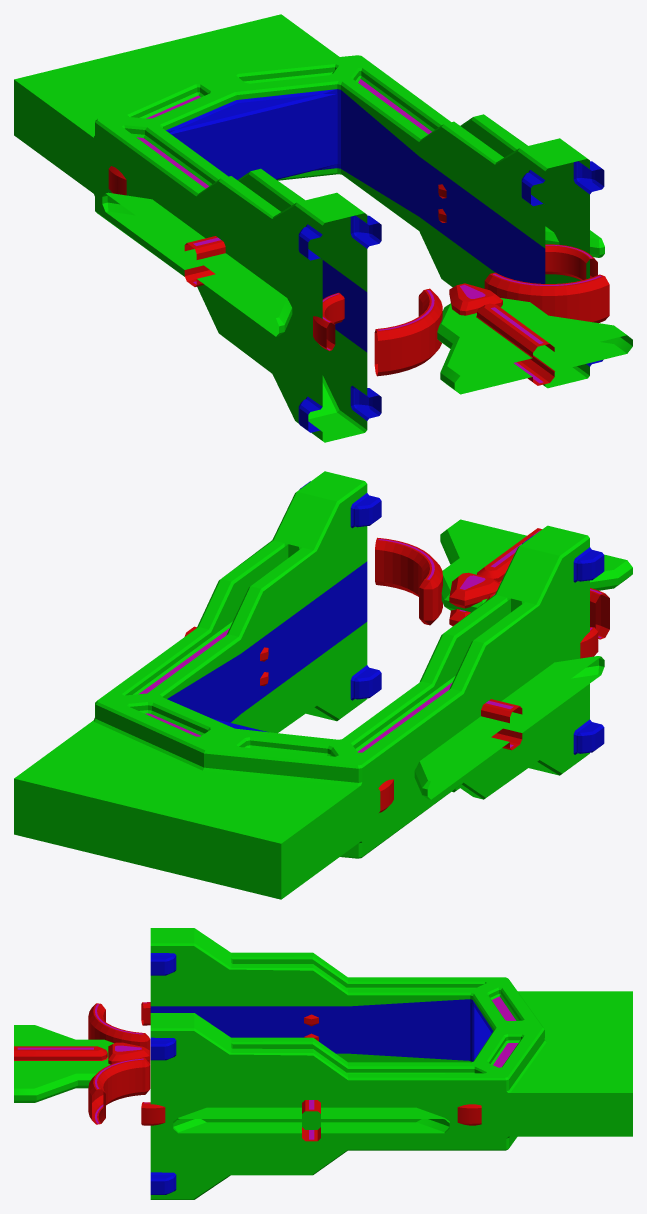
The model's file is MePortePetitOuvert_V1.FBX.
The picture shows the model from 3 angles, top to bottom: view 1: azimuth 30°, elevation 25°; view 2: azimuth 150°, elevation 25°; view 3: azimuth 270°, elevation 25°; orthographic projection. The views are drawn at different scales.
Visible parts, largest first — view 1: petite porte001; view 2: petite porte001; view 3: petite porte001.
Part boxes in pixels (x1,y1,x2,y2): petite porte001: (14, 14, 632, 442); petite porte001: (14, 471, 632, 899); petite porte001: (14, 928, 632, 1199).
Size of the model in its own units: 183 by 118 by 385.
